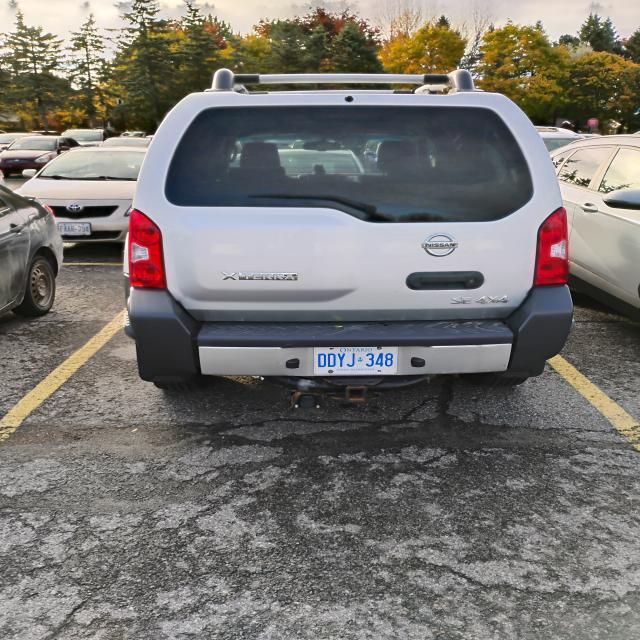plaque: (314, 347, 397, 375), (58, 223, 91, 235)
